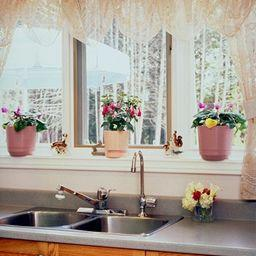Lavaplatos: (2, 137, 190, 251)
